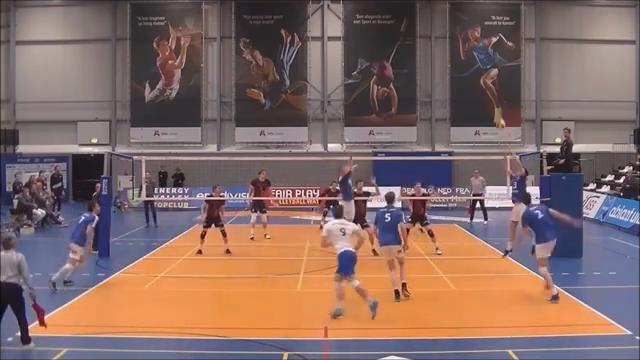alzata: (493, 139, 539, 257)
